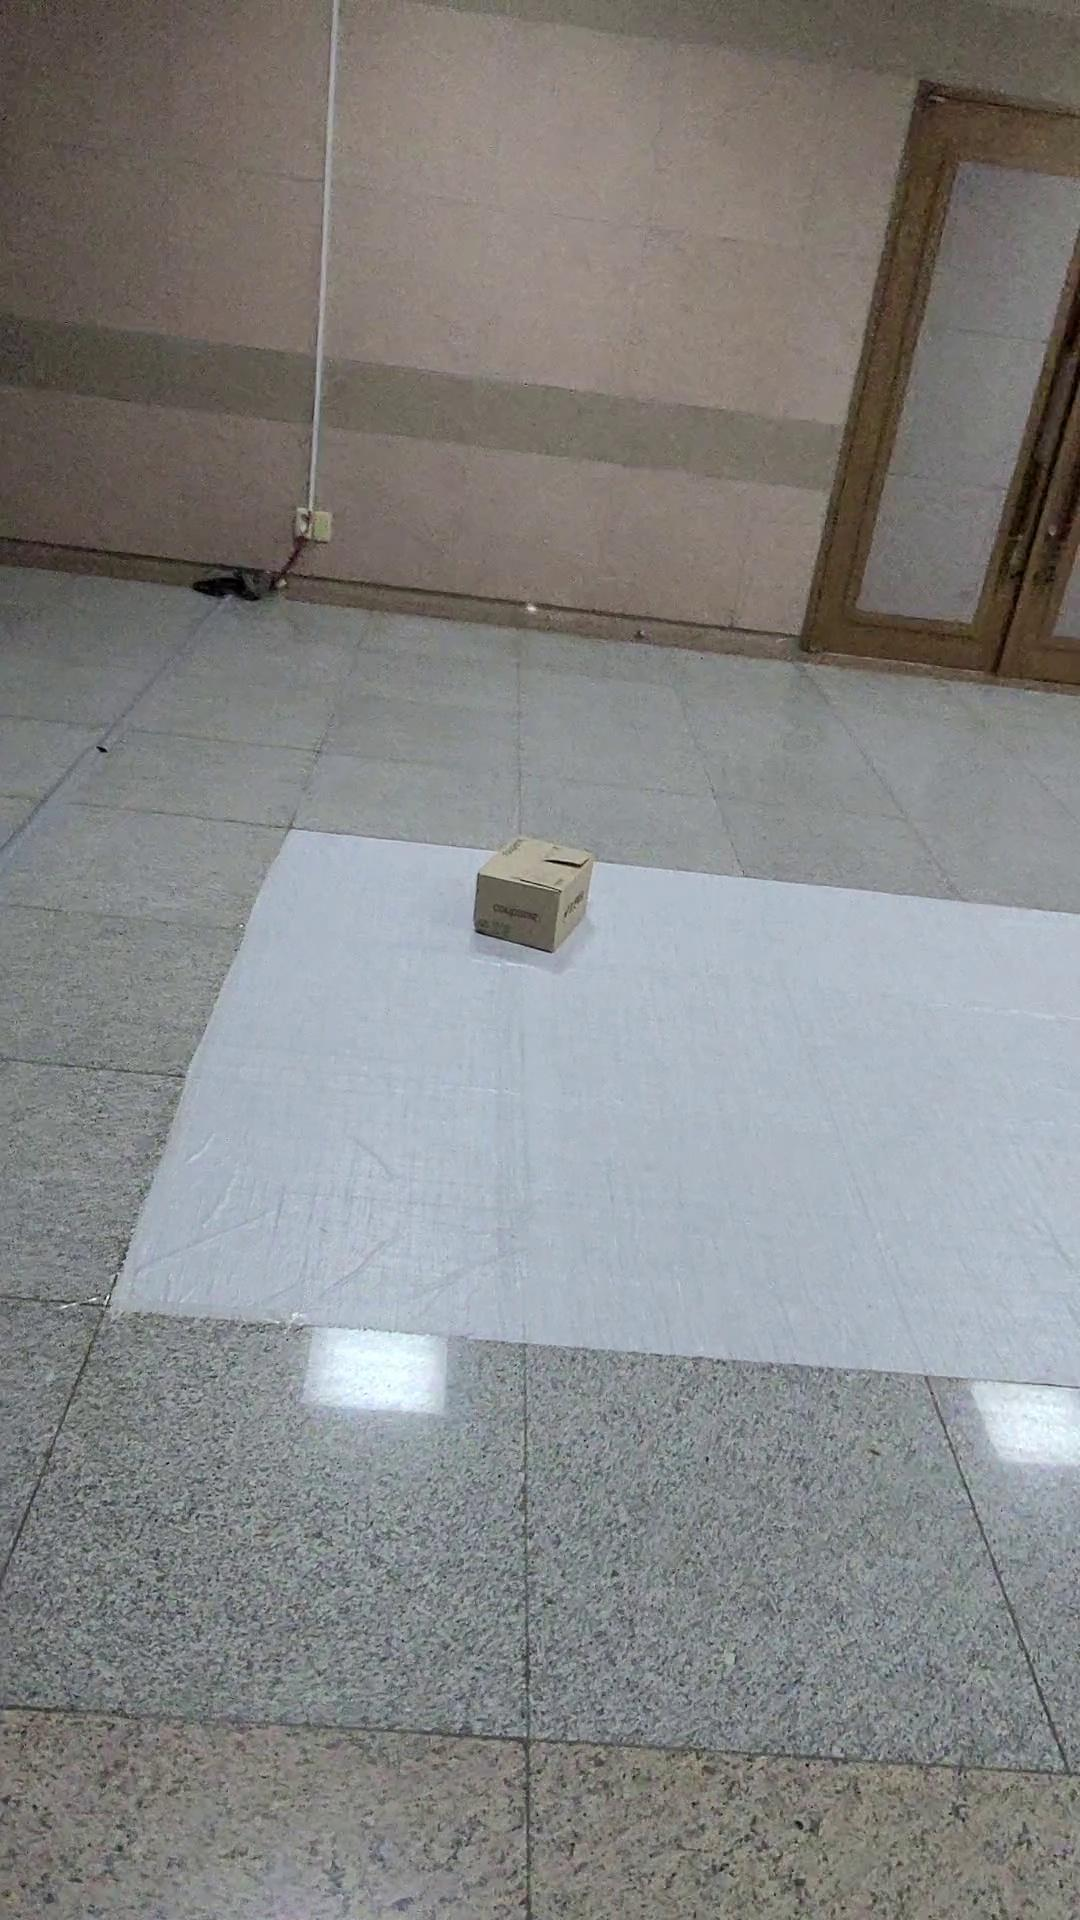Box: (451, 793, 625, 978)
